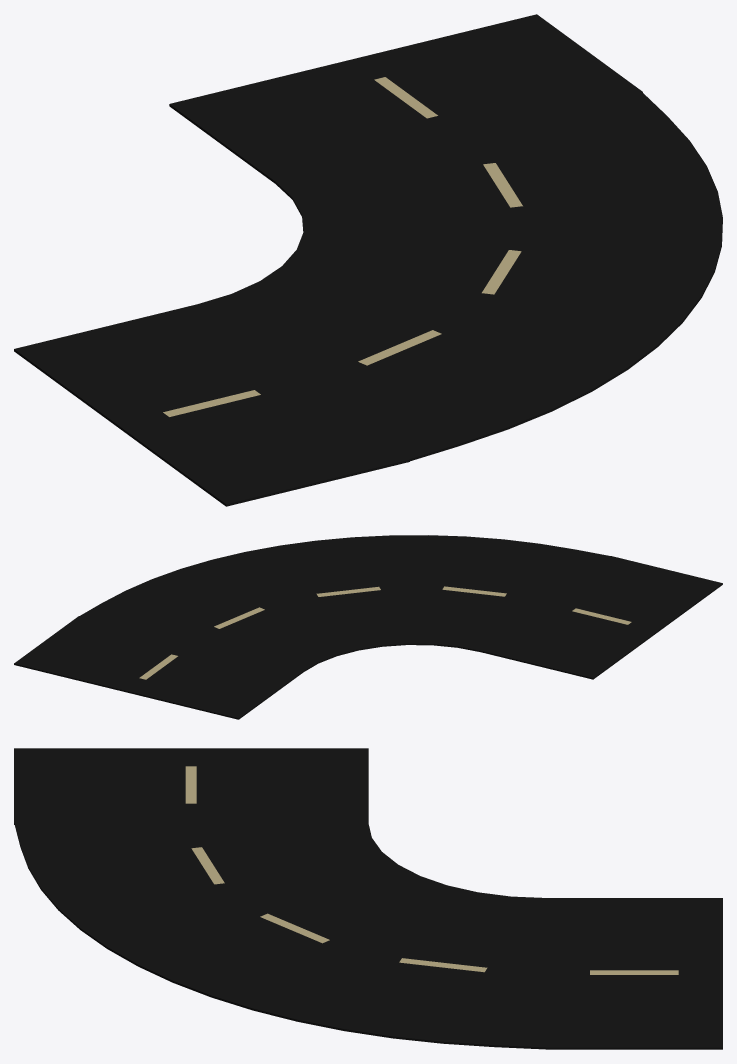
File: tile_road_corner.fbx
3 views of the same model, one above another, from view 1: azimuth 30°, elevation 25°; view 2: azimuth 150°, elevation 25°; view 3: azimuth 270°, elevation 25° (orthographic). The views are drawn at different scales.
Parts seen in each view (by area): view 1: tile_road_corner; view 2: tile_road_corner; view 3: tile_road_corner.
Part boxes in pixels (x1,y1,x2,y2): tile_road_corner: (14, 14, 722, 506); tile_road_corner: (14, 535, 722, 719); tile_road_corner: (14, 748, 722, 1049).
Size of the model in its own units: 16 by 0.064 by 16.
